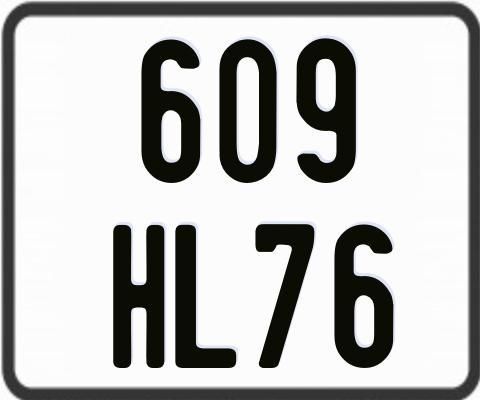0: (216, 39, 277, 188)
6: (141, 36, 200, 183), (334, 222, 393, 369)
7: (252, 224, 315, 369)
9: (295, 37, 360, 186)
H: (110, 223, 161, 367)
L: (174, 222, 238, 367)
